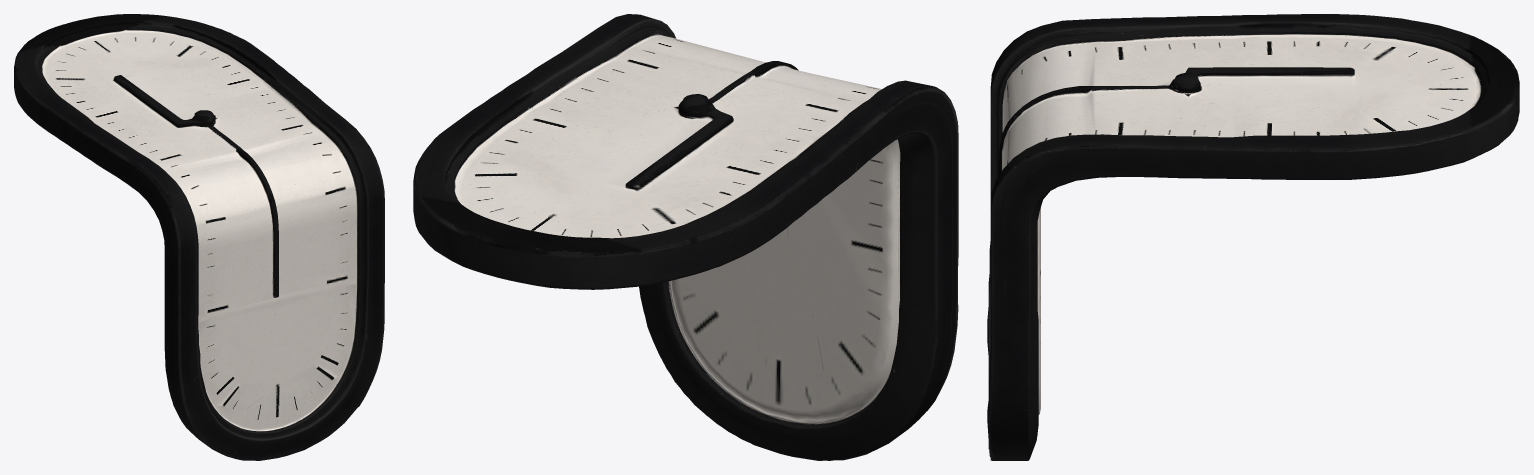
Rendered from Meshy_AI_Melting_Time_0628181102_texture.fbx.
3 views of the same model, side by side, from view 1: azimuth 30°, elevation 25°; view 2: azimuth 150°, elevation 25°; view 3: azimuth 270°, elevation 25° (orthographic). The views are drawn at different scales.
Visible parts, largest first — view 1: Mesh_0; view 2: Mesh_0; view 3: Mesh_0.
Part boxes in pixels (<box>): Mesh_0: <box>14,14,384,460</box>; Mesh_0: <box>413,14,958,460</box>; Mesh_0: <box>987,14,1519,460</box>.
Size of the model in its own units: 116 by 145 by 191.
Materials: 1 (1 with a texture image).
